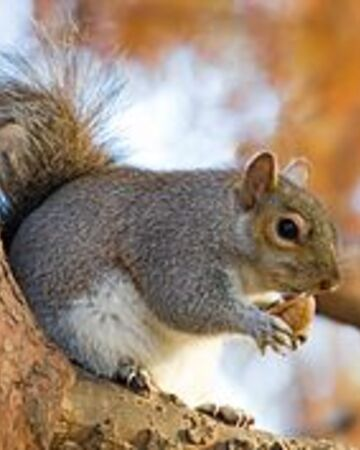Ardilla: (42, 158, 350, 362)
